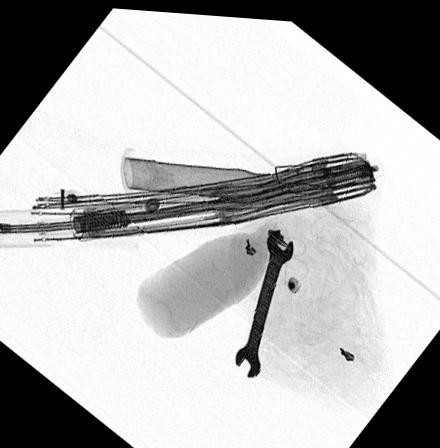Wrench: (232, 225, 294, 373)
